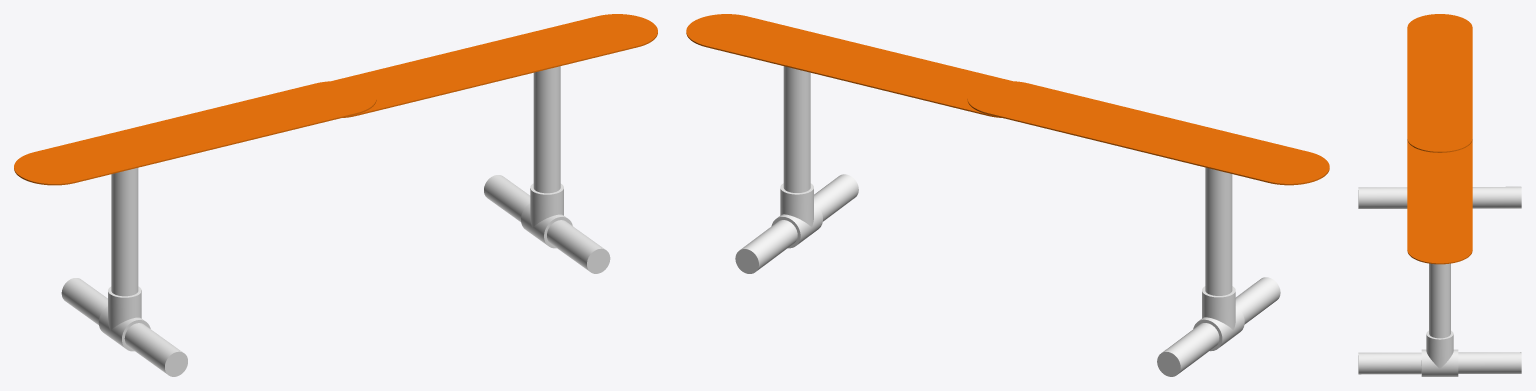
Rendered from lane_marker_straight (1).dae.
3 renders of one model, left to right at view 1: azimuth 30°, elevation 25°; view 2: azimuth 150°, elevation 25°; view 3: azimuth 270°, elevation 25°, orthographic. The views are drawn at different scales.
Visible parts, largest first — view 1: to_marker, from_marker, to_leg, from_leg, from_foot, to_foot, to_T_joint, from_T_joint; view 2: to_marker, from_marker, to_leg, from_leg, to_foot, from_foot, from_T_joint, to_T_joint; view 3: to_marker, from_marker, from_foot, to_foot, from_leg, from_T_joint.
Boxes of the visible parts, bbox=[...] form: to_marker: bbox=[14, 81, 376, 185]; from_marker: bbox=[331, 14, 657, 117]; to_leg: bbox=[111, 168, 138, 296]; from_leg: bbox=[533, 66, 560, 193]; from_foot: bbox=[484, 175, 610, 273]; to_foot: bbox=[61, 278, 187, 376]; to_T_joint: bbox=[98, 286, 150, 351]; from_T_joint: bbox=[521, 183, 572, 248]; to_marker: bbox=[967, 81, 1329, 185]; from_marker: bbox=[686, 14, 1012, 117]; to_leg: bbox=[1205, 167, 1232, 295]; from_leg: bbox=[783, 66, 810, 192]; to_foot: bbox=[1157, 277, 1280, 376]; from_foot: bbox=[735, 174, 858, 273]; from_T_joint: bbox=[771, 183, 822, 248]; to_T_joint: bbox=[1193, 286, 1244, 351]; to_marker: bbox=[1407, 14, 1472, 152]; from_marker: bbox=[1407, 140, 1472, 264]; from_foot: bbox=[1358, 352, 1521, 374]; to_foot: bbox=[1358, 186, 1521, 208]; from_leg: bbox=[1429, 263, 1450, 338]; from_T_joint: bbox=[1421, 330, 1458, 376].
Size of the model in its own units: 1.37 by 0.3814 by 0.3994.
